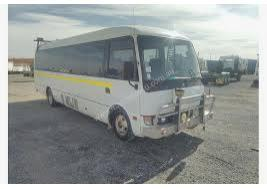bus: (34, 24, 207, 146)
